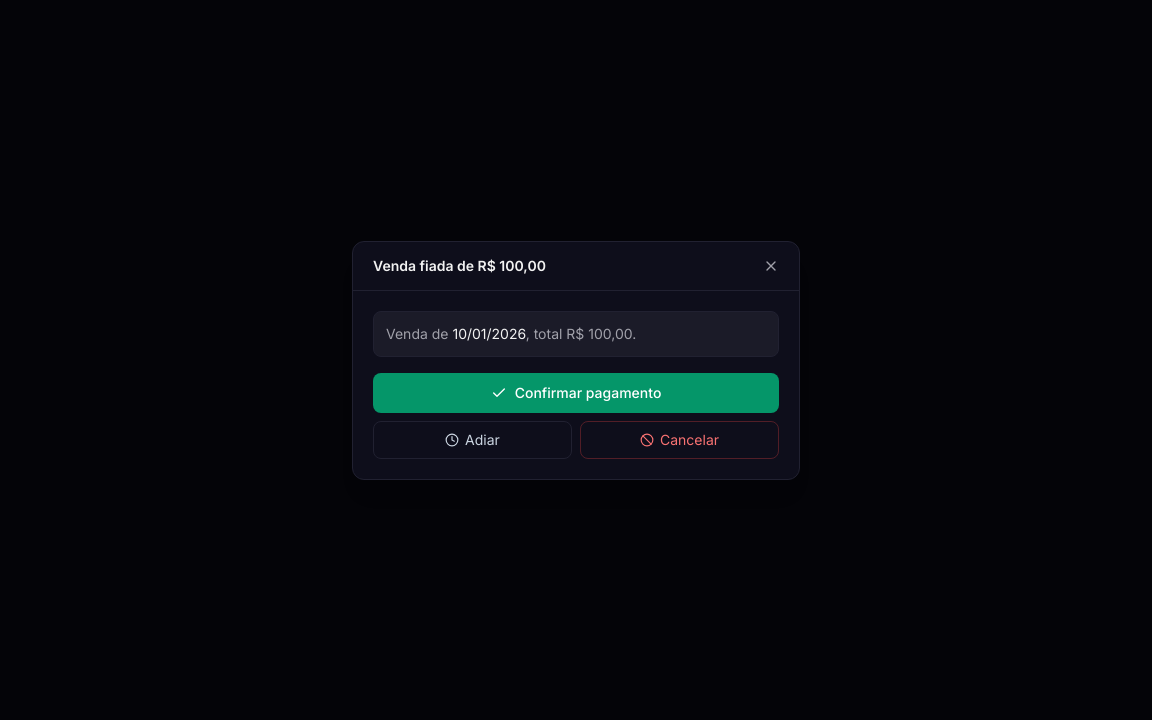
Scenario: Adiar e cancelar › nunca adia por menos de um dia
Click the button "Adiar" at {"x": 472, "y": 440}, box [373, 420, 572, 458]
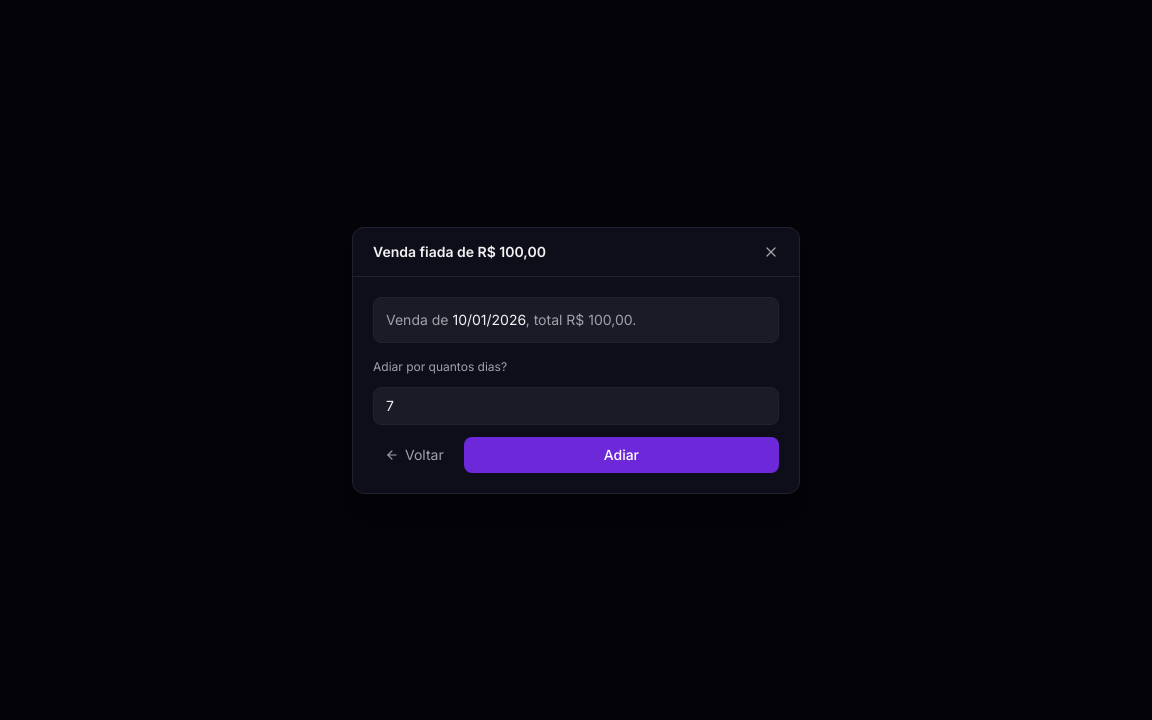
Replace the text in the number field named "dias para adiar" with "0" at {"x": 576, "y": 406}, box [373, 386, 779, 424]
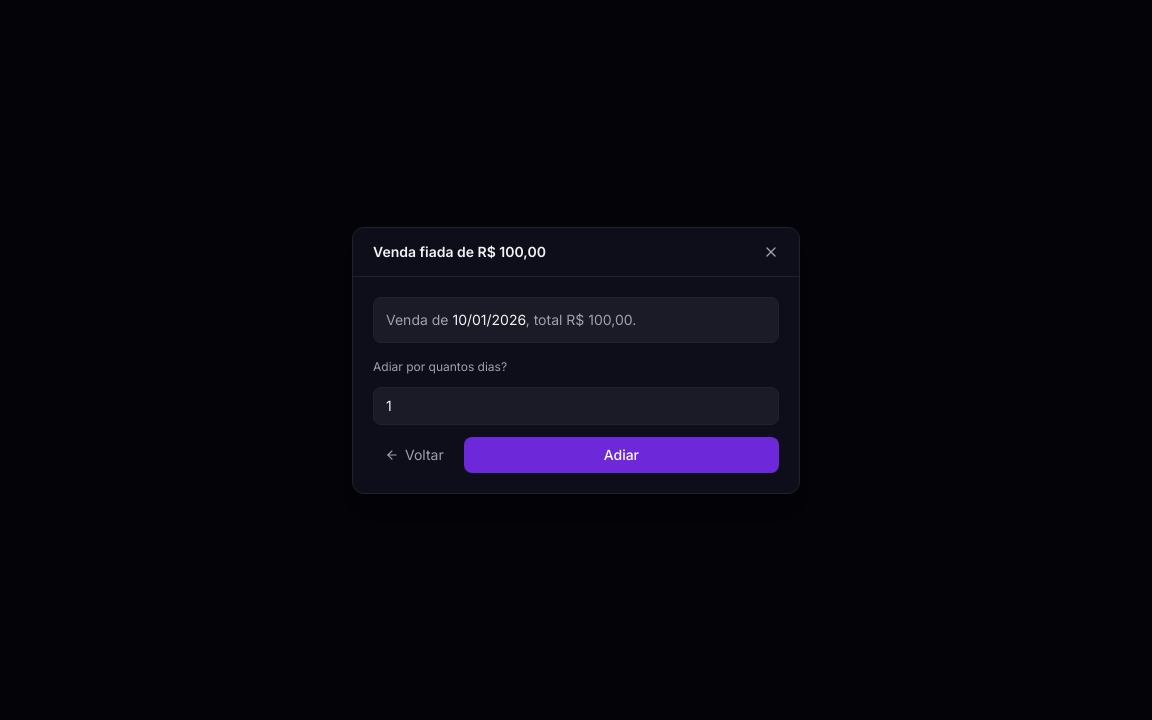
Expected: the number field named "dias para adiar" holds "1", [373, 386, 779, 424]
